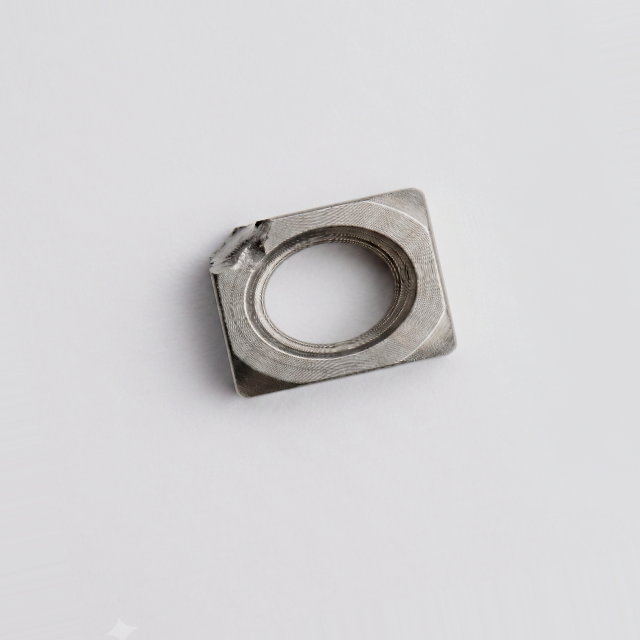defect: (200, 203, 274, 279)
